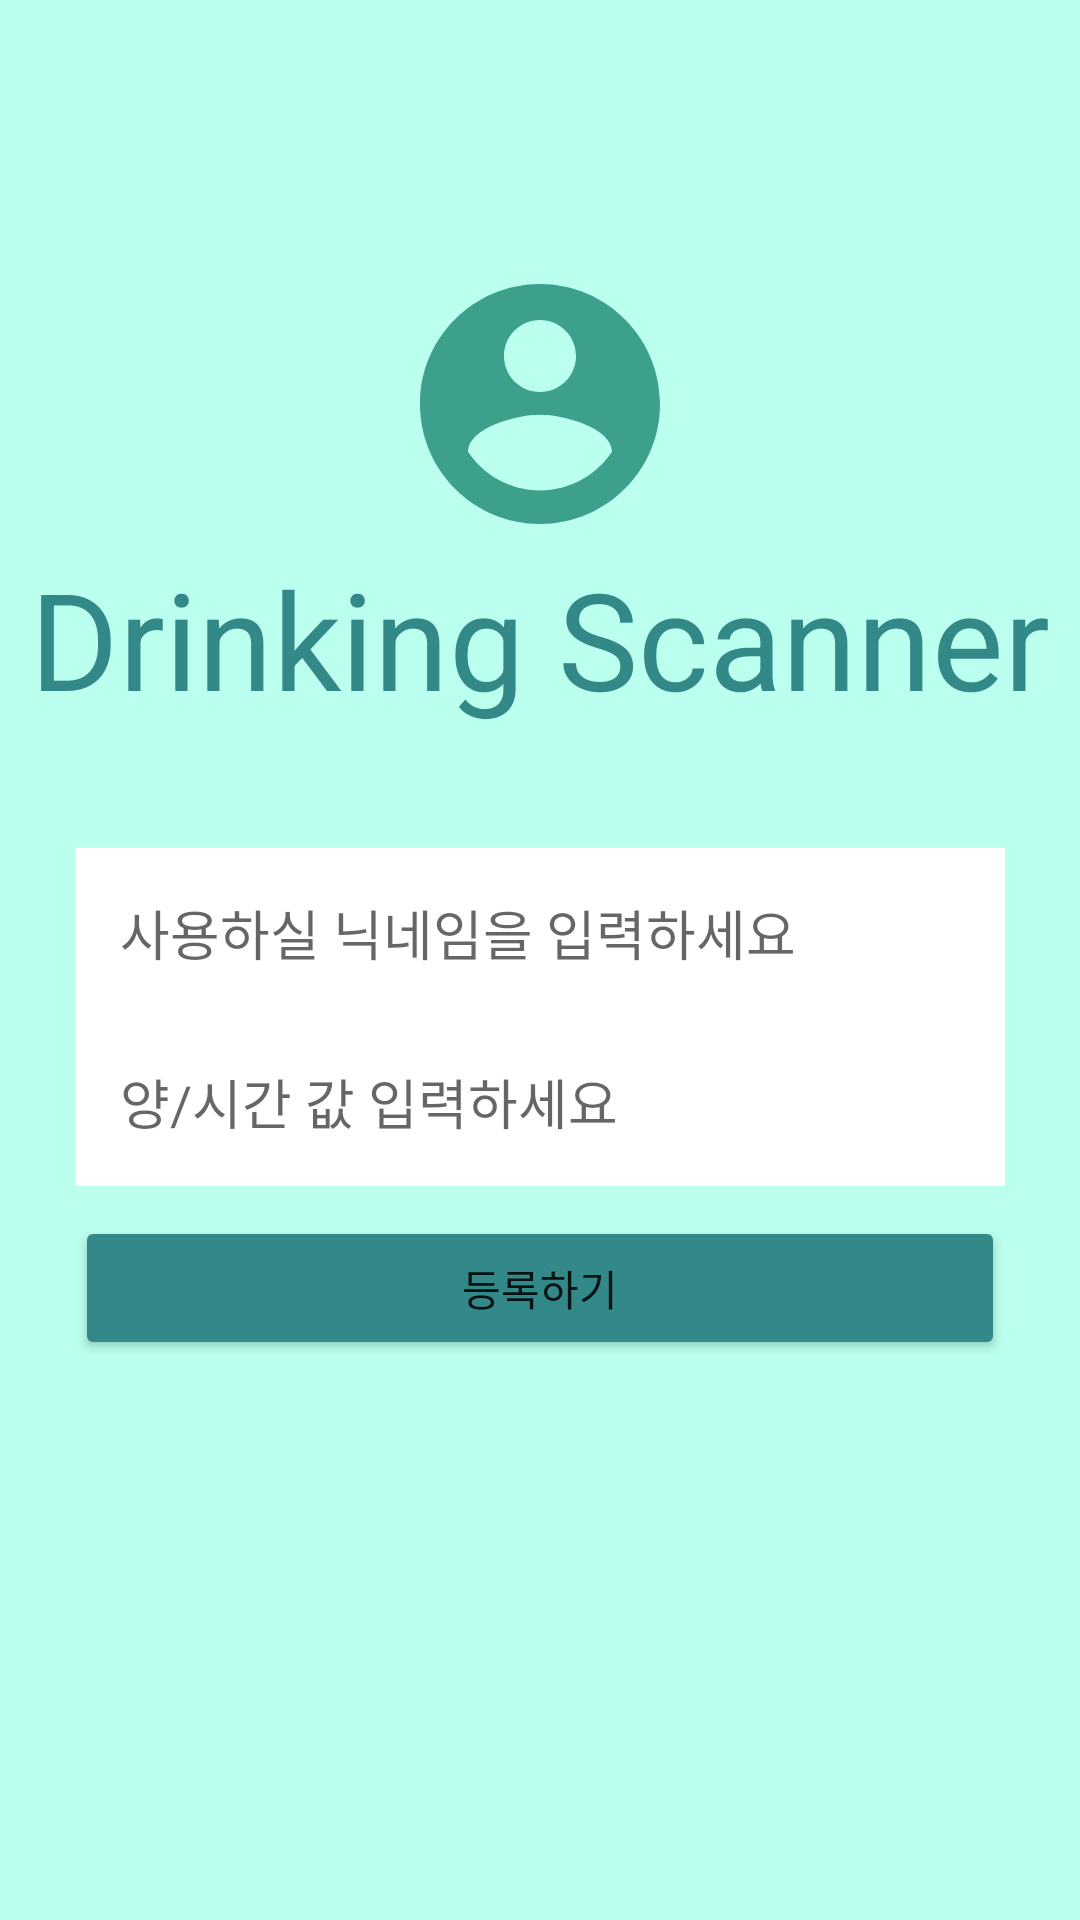

Locate icon controls on the screen. Image size 1080×1920, boxes as {"left": x1, "top": y1, "right": x2, "bottom": y2}.
account circle: {"left": 420, "top": 284, "right": 660, "bottom": 524}
